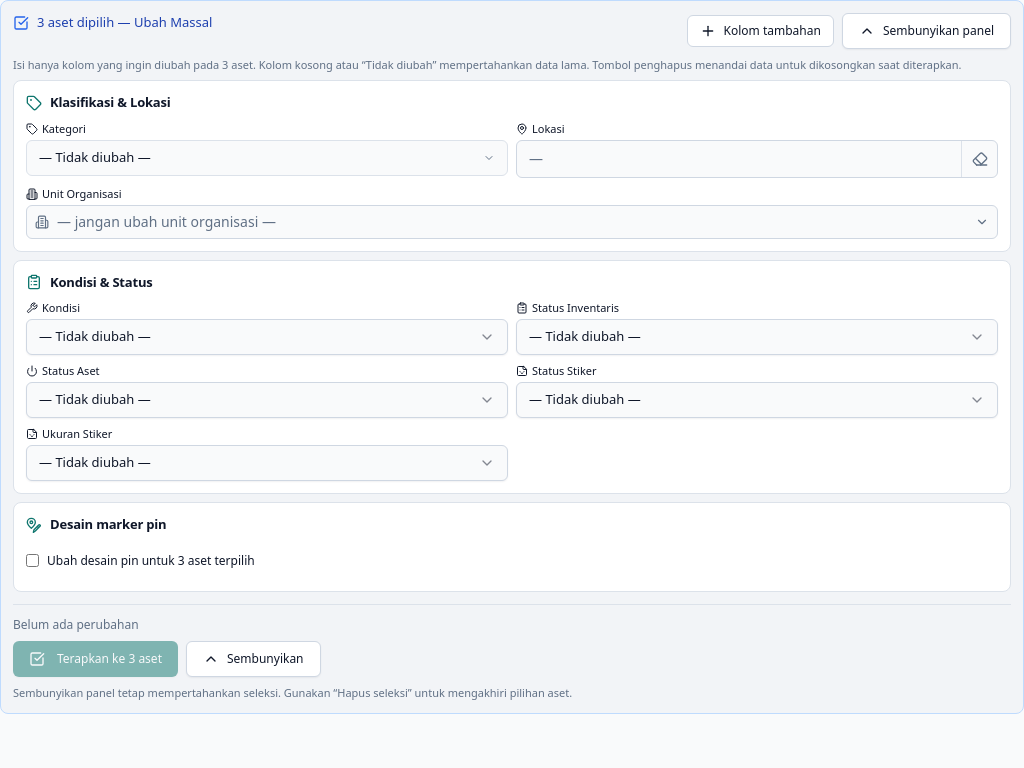
it: pencariannya ikut terbawa
Click the button with test id "batch-unit-pemicu" at (166, 221), box [26, 205, 998, 239]
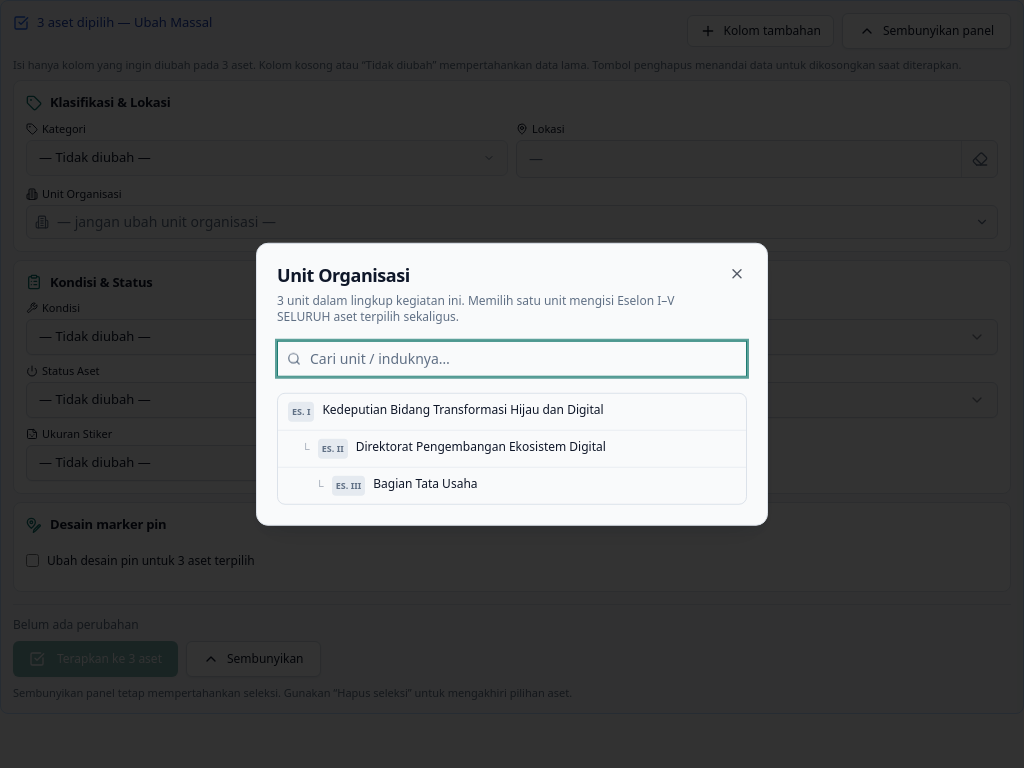
Type "tata usaha" into the field with test id "batch-unit-cari" at (512, 358), box [277, 340, 747, 376]
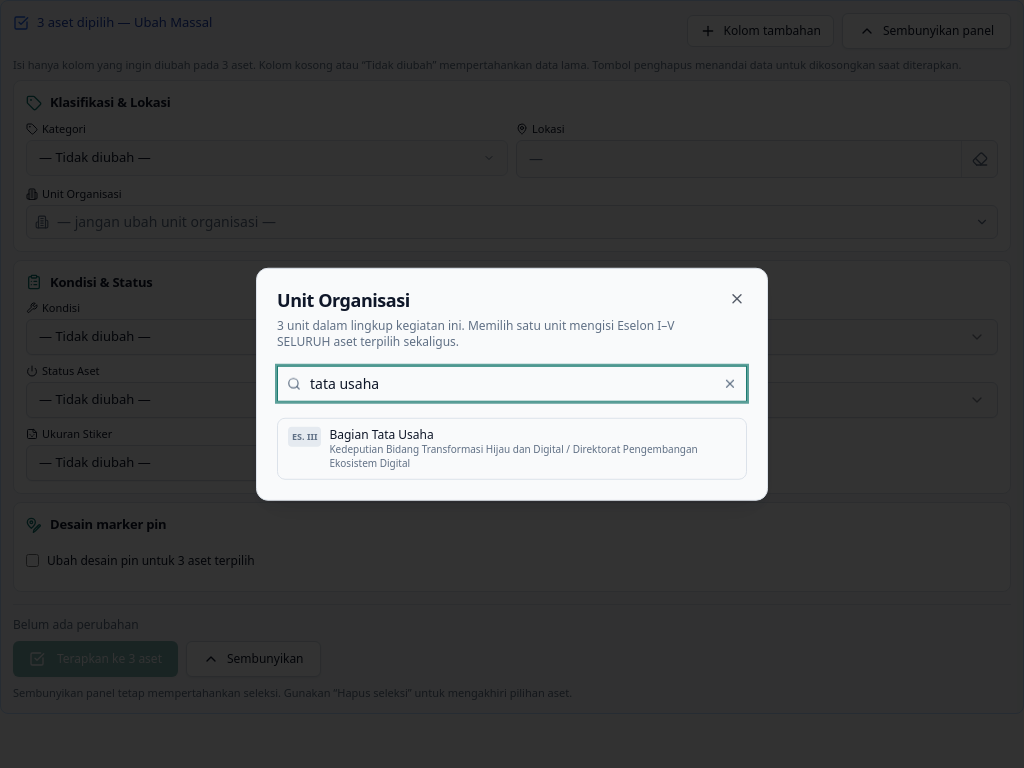
Check: the button with test id "batch-unit-opsi-b1" is shown, box [278, 418, 746, 478]
Check: the button with test id "batch-unit-opsi-k2" is gone
